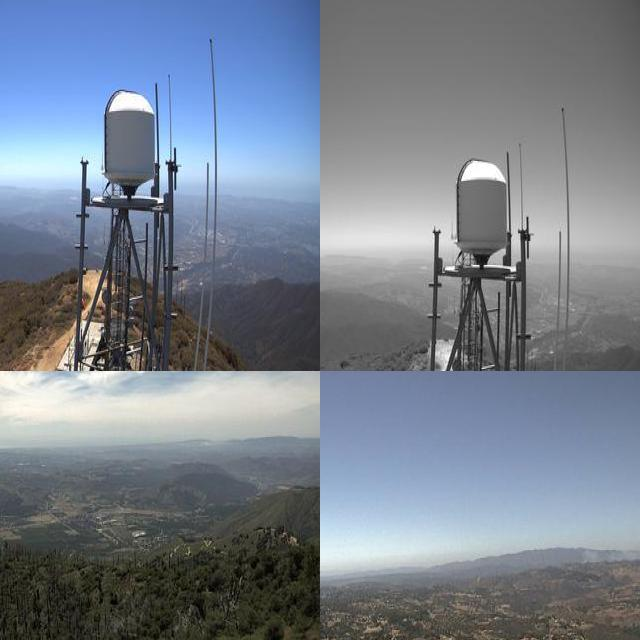smoke: (572, 526, 640, 564)
